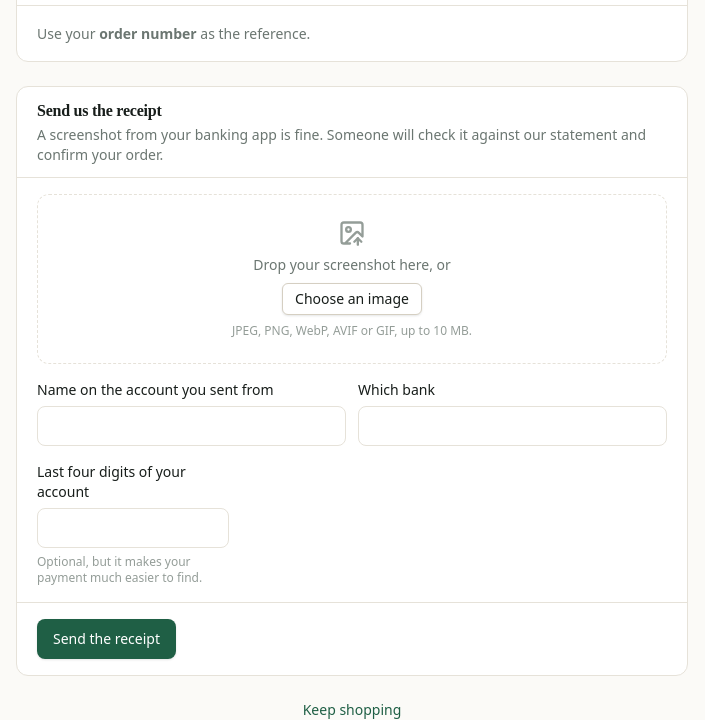
Scenario: the receipt › will not send without a screenshot
(page scrolled)
Click the button "Send the receipt": (106, 639) [37, 619, 176, 659]
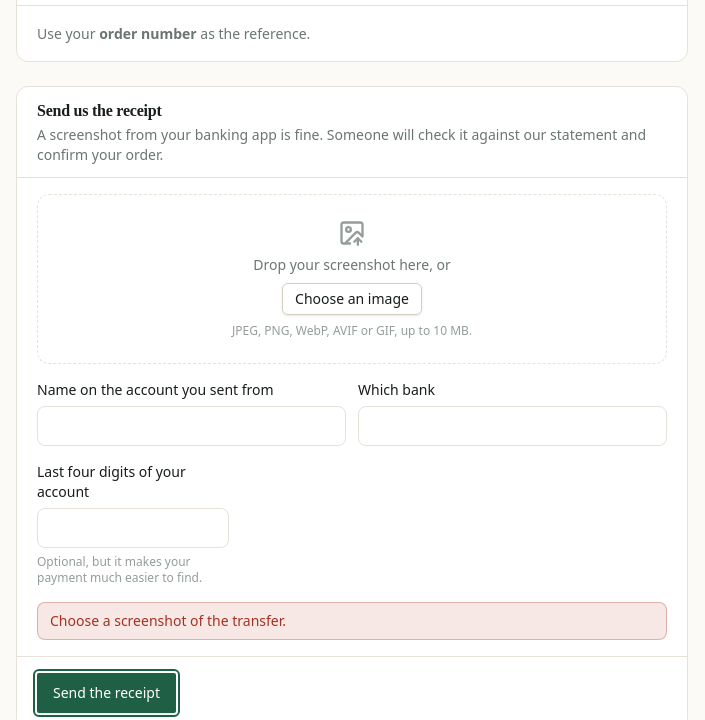
Now the text "Choose a screenshot of the transfer." is shown, box [37, 602, 667, 640]
